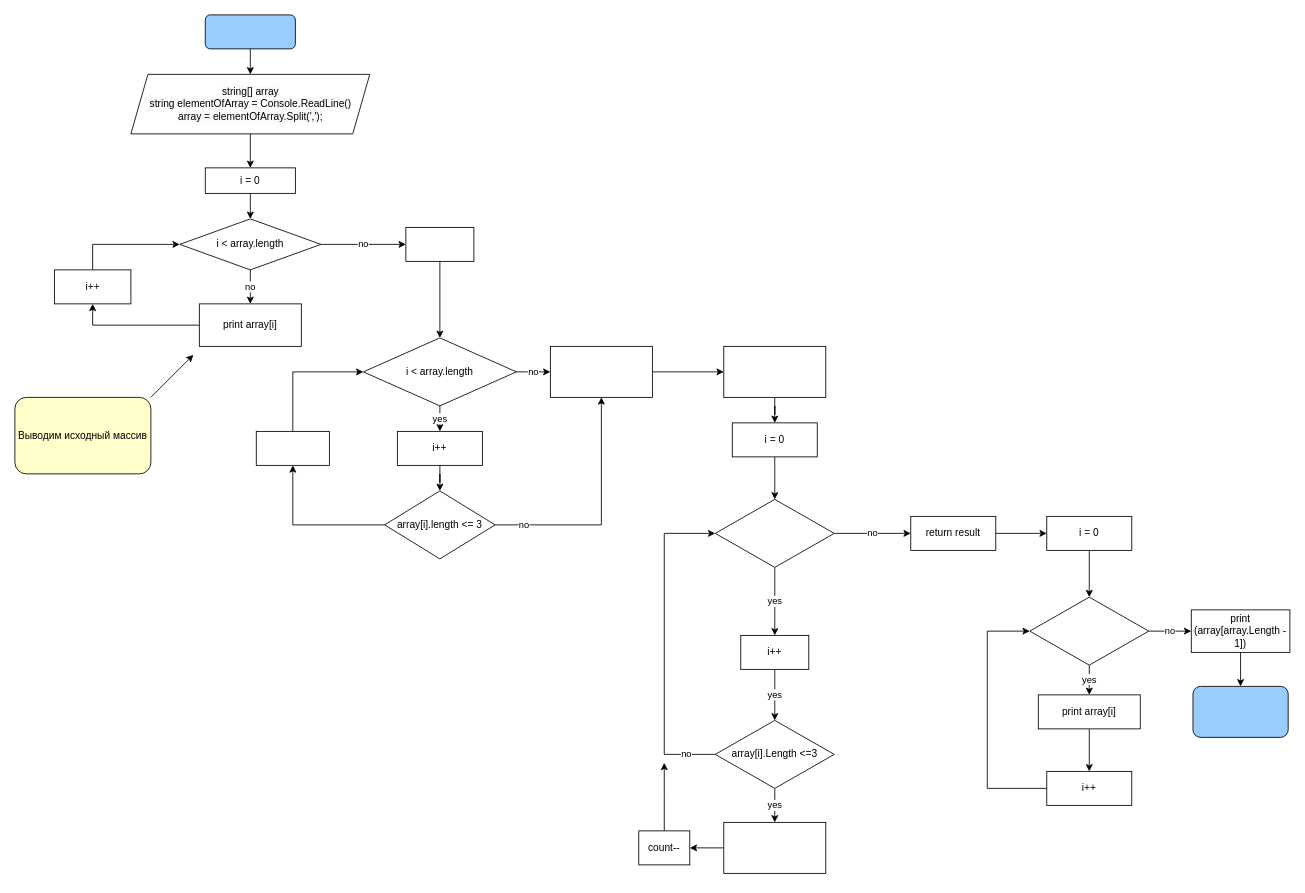
Some shapes in this 1305 by 893 pixel diagram are drawn without their labels. The box of each missing label's shape, as (x1, y1, x2, y2) in pixels:
btgin: (204, 14, 295, 49)
count = 0 i = 0: (405, 227, 474, 261)
count++: (255, 431, 329, 465)
End: (1192, 686, 1288, 737)
i < array.Length -1: (1029, 596, 1149, 665)
i <= array.Length: (714, 499, 834, 567)
result[result.Length - count] = array[i]: (723, 822, 826, 873)
return count: (550, 346, 652, 397)
string[] result = new string[count]: (723, 346, 826, 397)
